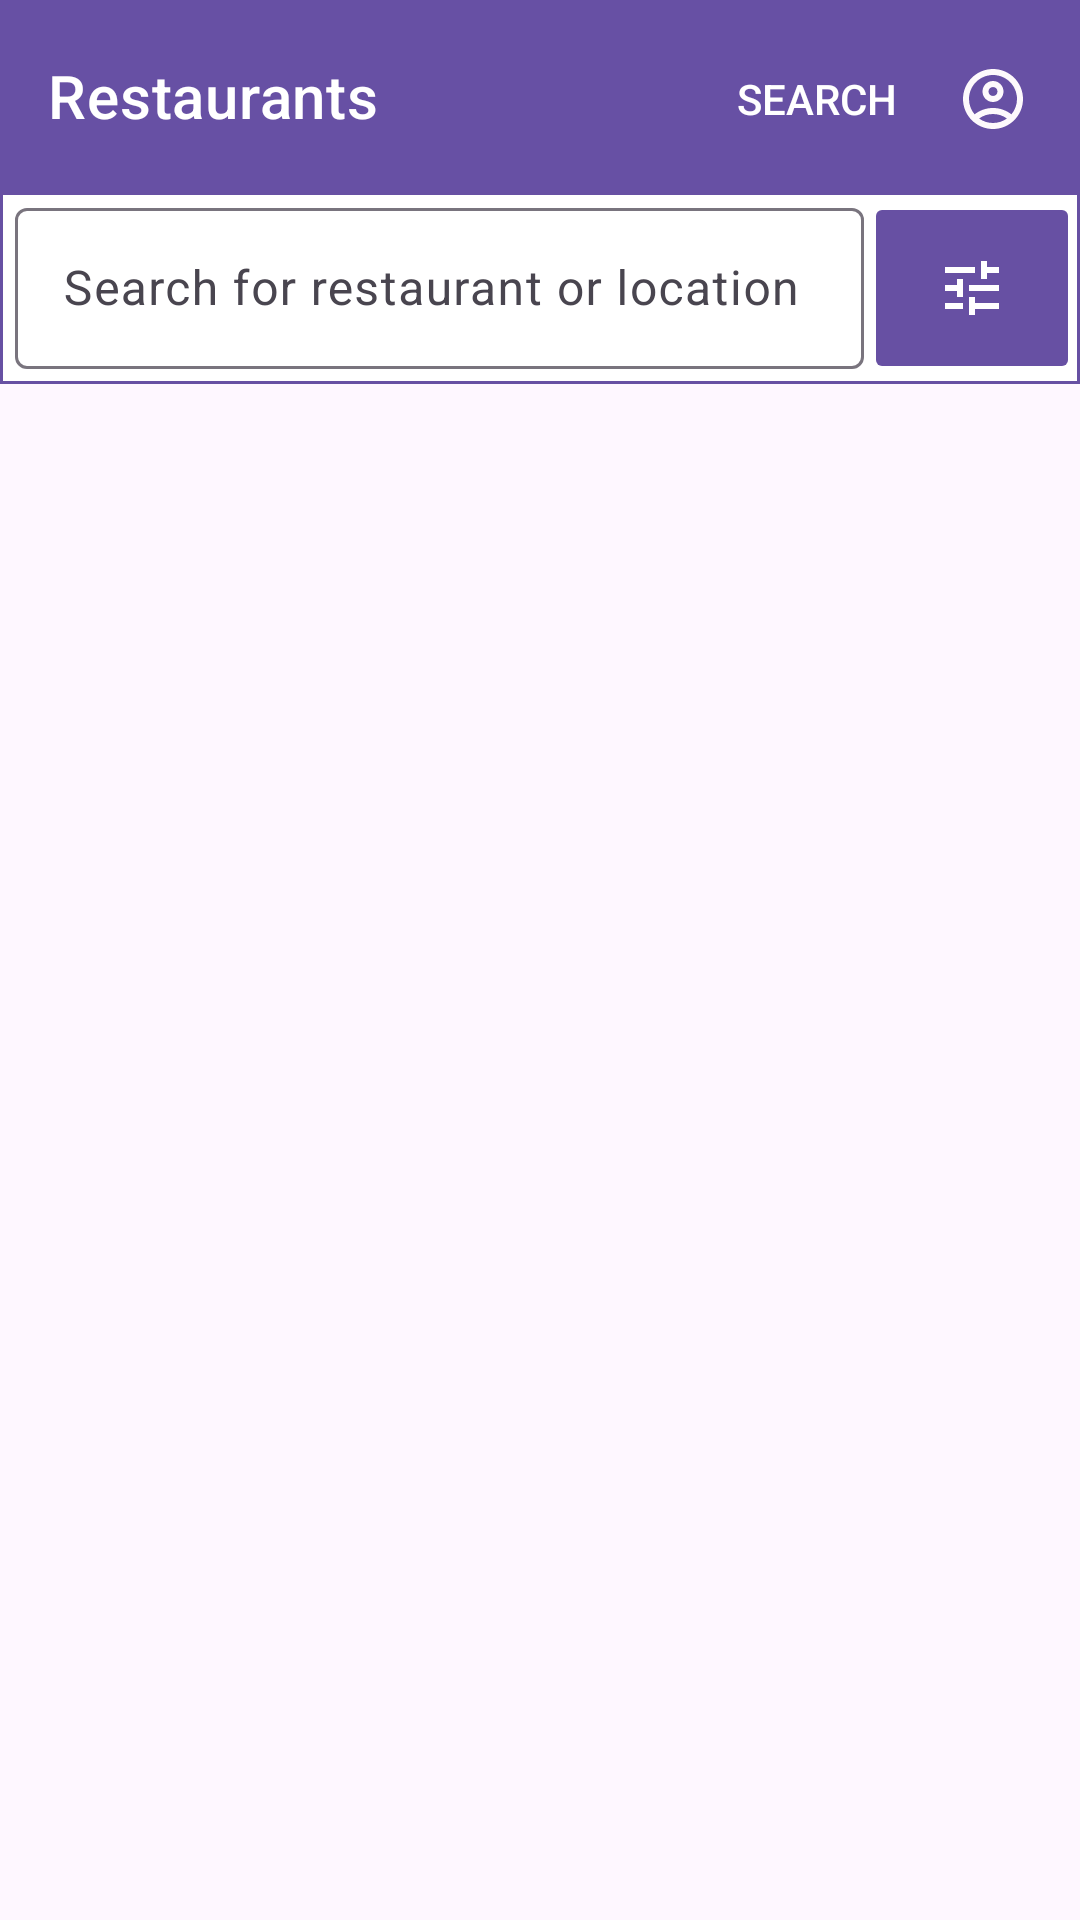

Where to tap for icons on this 1080px×1920px app screen, as (x,y):
button for filtering: (972,288)
